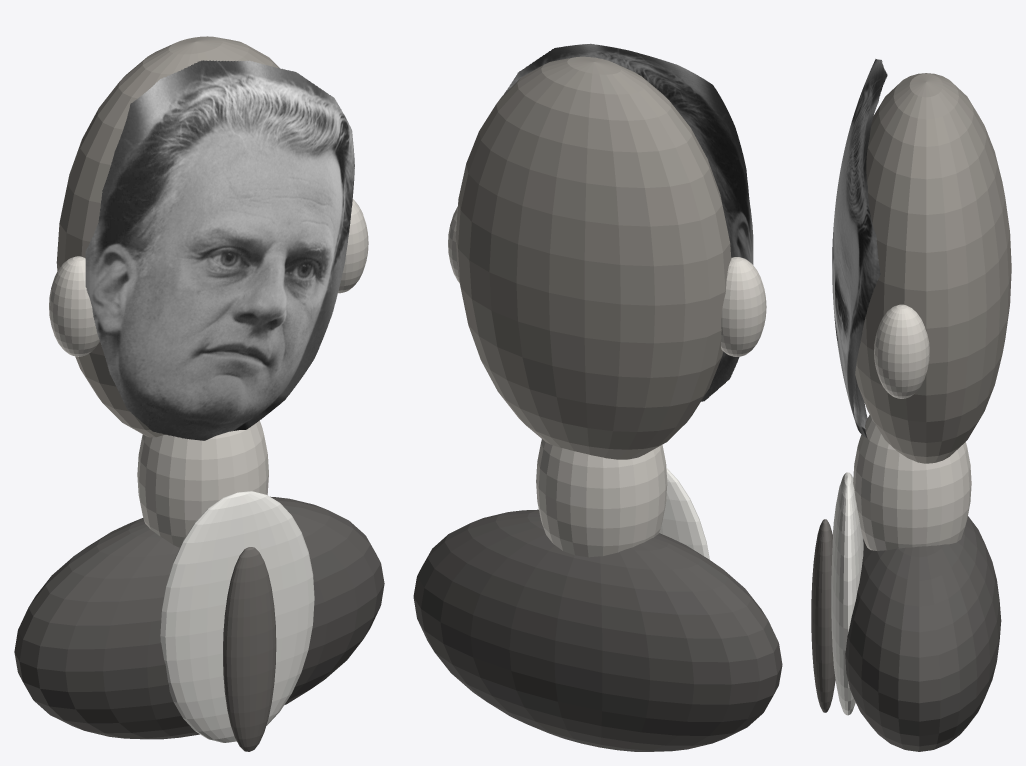
The model's file is billy-graham.glb.
3 renders of one model, left to right at view 1: azimuth 30°, elevation 25°; view 2: azimuth 150°, elevation 25°; view 3: azimuth 270°, elevation 25°, orthographic. The views are drawn at different scales.
Parts seen in each view (by area): view 1: Textured facial surface, Suit shoulders, Shirt front, Hair and skull volume, Neck, Tie, Left ear, Right ear; view 2: Hair and skull volume, Suit shoulders, Neck, Textured facial surface, Left ear, Shirt front; view 3: Hair and skull volume, Suit shoulders, Neck, Textured facial surface, Shirt front, Right ear, Tie.
Boxes of the visible parts, x1,y1,x2,y2 form: Textured facial surface: (85, 60, 354, 440); Suit shoulders: (14, 496, 384, 739); Shirt front: (160, 491, 314, 742); Hair and skull volume: (56, 36, 279, 437); Neck: (137, 420, 268, 547); Tie: (223, 547, 276, 751); Left ear: (49, 256, 99, 356); Right ear: (338, 199, 368, 293); Hair and skull volume: (455, 56, 731, 459); Suit shoulders: (413, 509, 782, 751); Neck: (536, 439, 667, 557); Textured facial surface: (504, 43, 753, 401); Left ear: (721, 257, 766, 356); Shirt front: (659, 468, 709, 559); Hair and skull volume: (855, 73, 1011, 463); Suit shoulders: (845, 516, 1001, 751); Neck: (853, 414, 971, 550); Textured facial surface: (832, 59, 887, 438); Shirt front: (831, 472, 863, 715); Right ear: (874, 304, 929, 398); Tie: (811, 519, 835, 712).
Bounding box in the file's own units: 2.24 × 4.08 × 1.15.
Materials: 6 (1 with a texture image).
